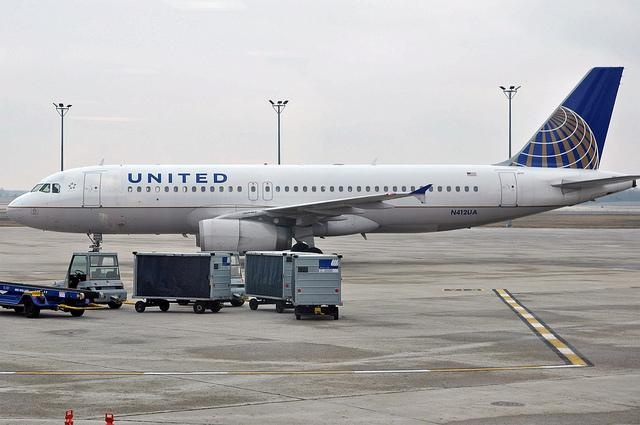airplane: (7, 64, 640, 272)
